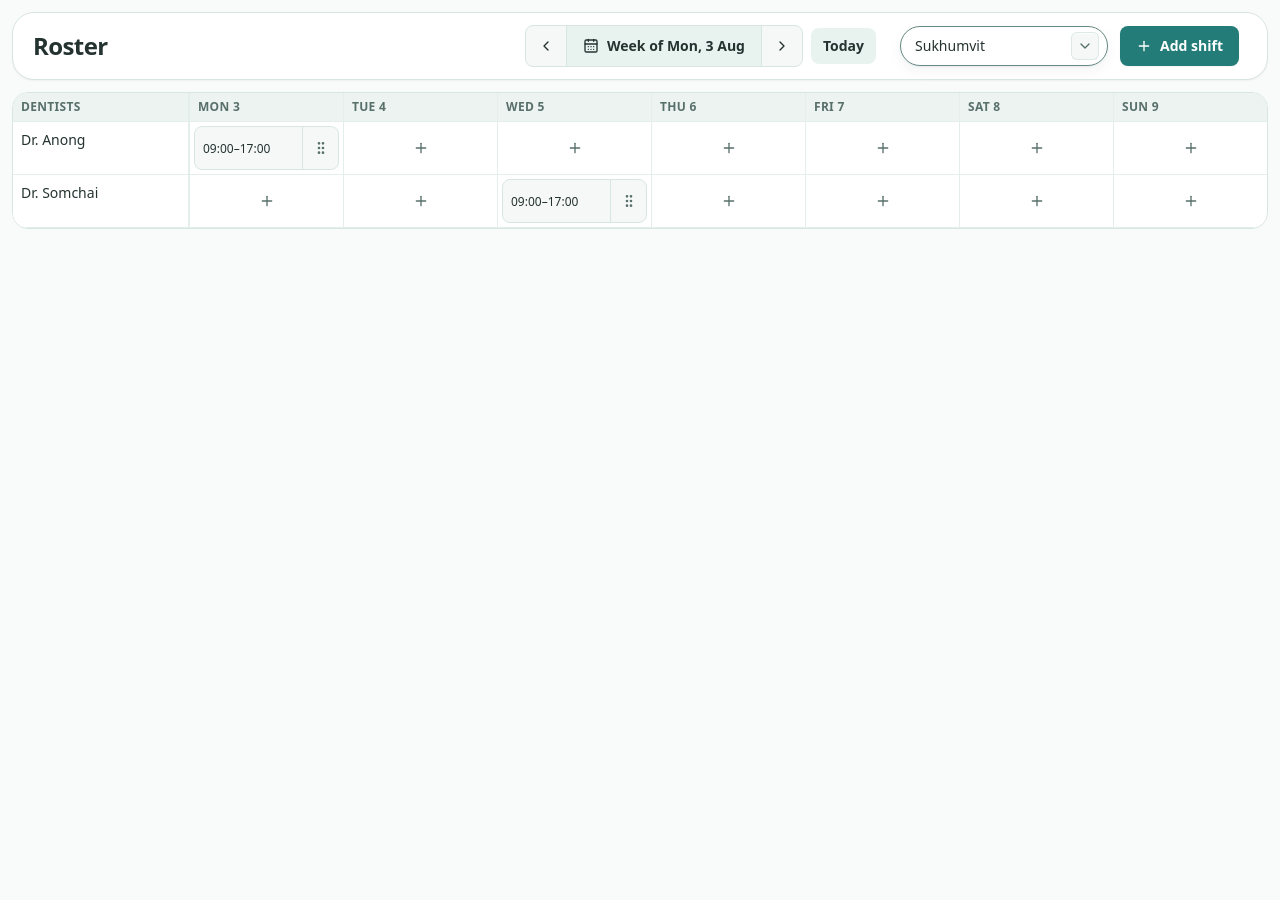
Scenario: roster drag › patches the moved shift in place once validation comes back clean
The image size is (1280, 900).
Press the mouse on the button named "Move Dr. Somchai shift" at [628, 201], box top-left (610, 180), bottom-right (646, 222)
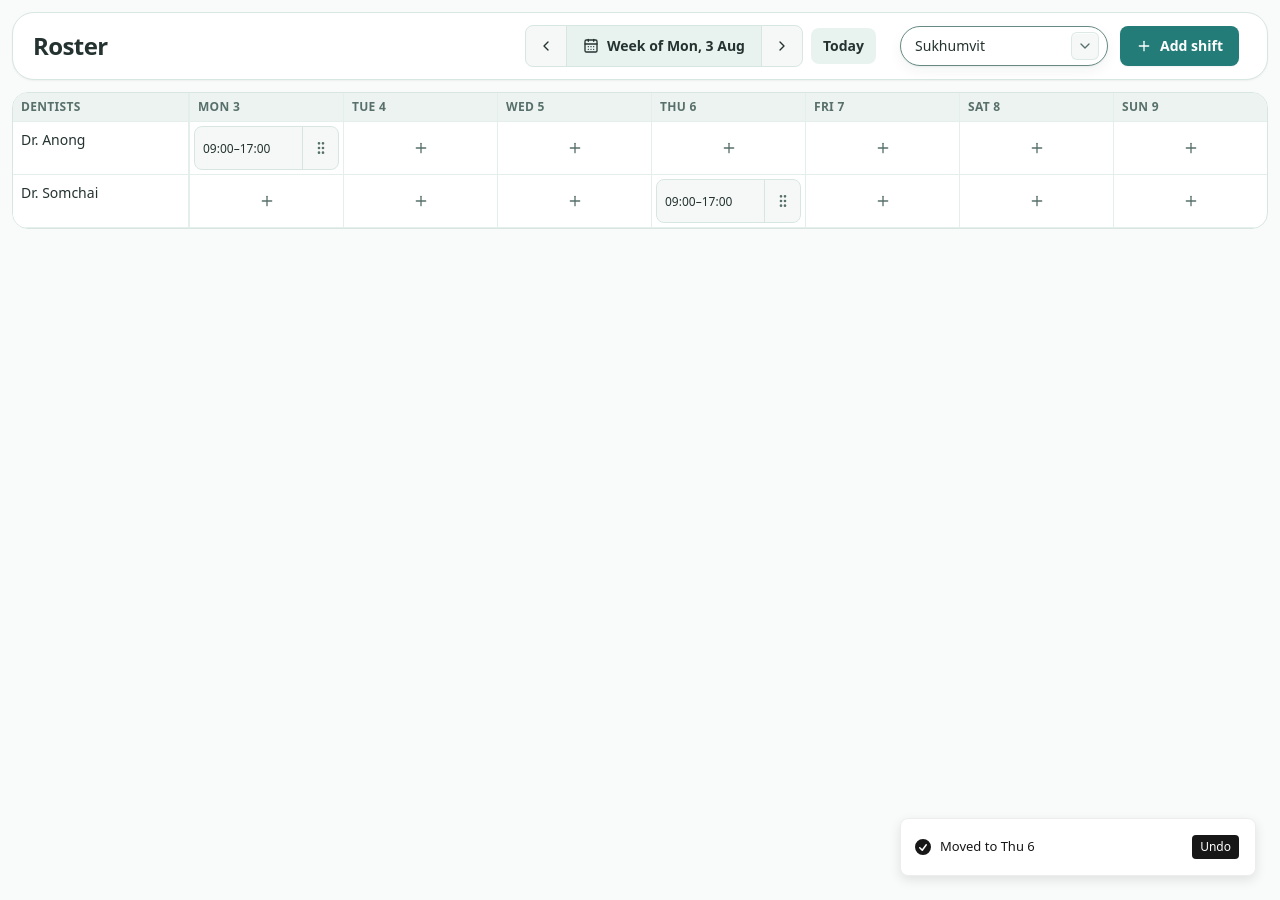
Now the text "Moved to Thu 6" is shown, box top-left (940, 837), bottom-right (1035, 857)
Now the button "Undo" is shown, box top-left (1192, 835), bottom-right (1239, 859)
